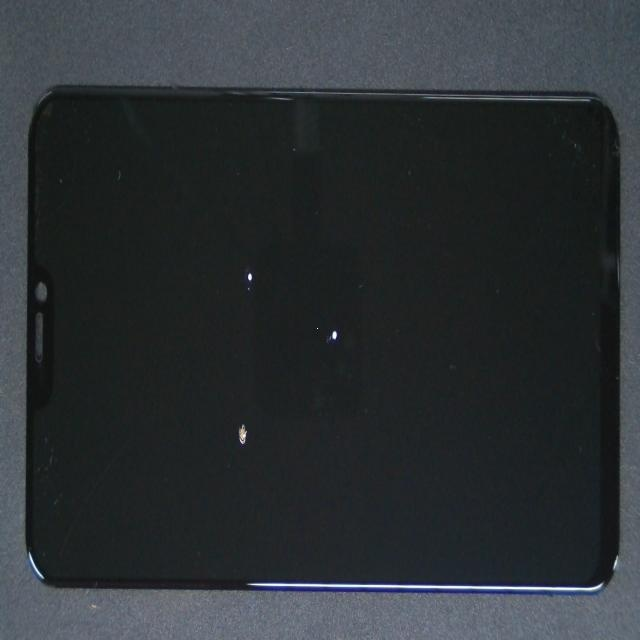stain: (131, 154, 489, 523), (143, 204, 372, 617), (108, 164, 379, 456)
